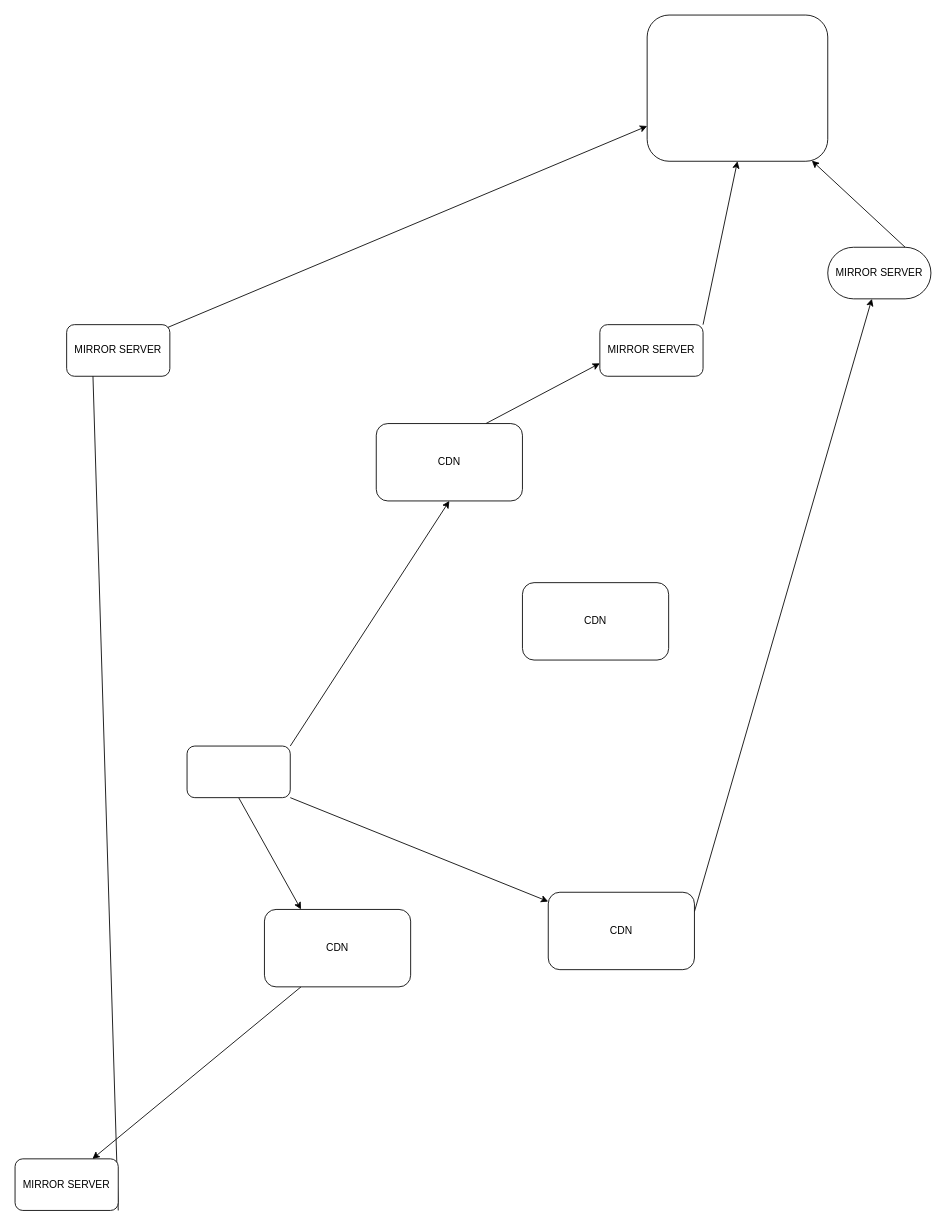
This 946x1232 diagram has some shape labels left out. The centre of each missing label's shape, as x and y in pixels:
LAPTOP: pixel 238 771
SERVER: pixel 737 87
